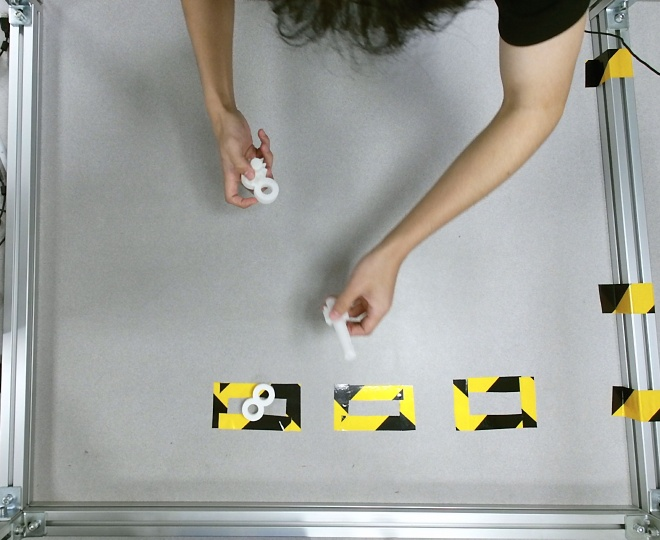stage_2: (240, 157, 278, 204)
